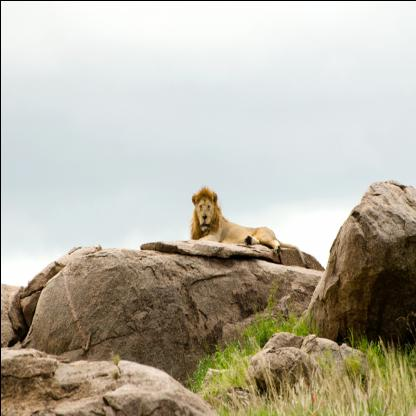lion: (184, 175, 222, 237)
